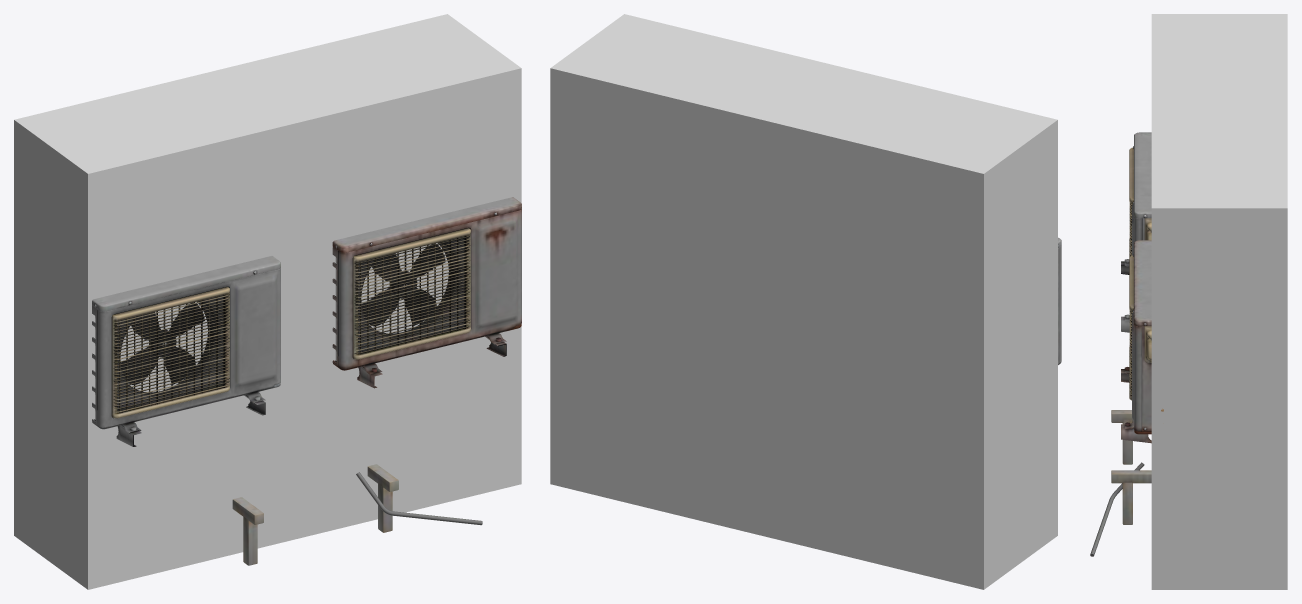
The model's file is pr_aircon.gltf.
3 views of the same model, side by side, from view 1: azimuth 30°, elevation 25°; view 2: azimuth 150°, elevation 25°; view 3: azimuth 270°, elevation 25° (orthographic). The views are drawn at different scales.
Parts seen in each view (by area): view 1: pr_aircon_COL, pr_aircon_LOD0; view 2: pr_aircon_COL; view 3: pr_aircon_COL, pr_aircon_LOD0.
Part boxes in pixels (x1,y1,x2,y2): pr_aircon_COL: [14, 14, 521, 589]; pr_aircon_LOD0: [92, 197, 521, 565]; pr_aircon_COL: [550, 14, 1057, 589]; pr_aircon_COL: [1151, 14, 1287, 589]; pr_aircon_LOD0: [1090, 132, 1163, 556].
Size of what is drawn, in the model's own units: 1.8 by 1.65 by 0.7739.
Materials: 1 (1 with a texture image).
